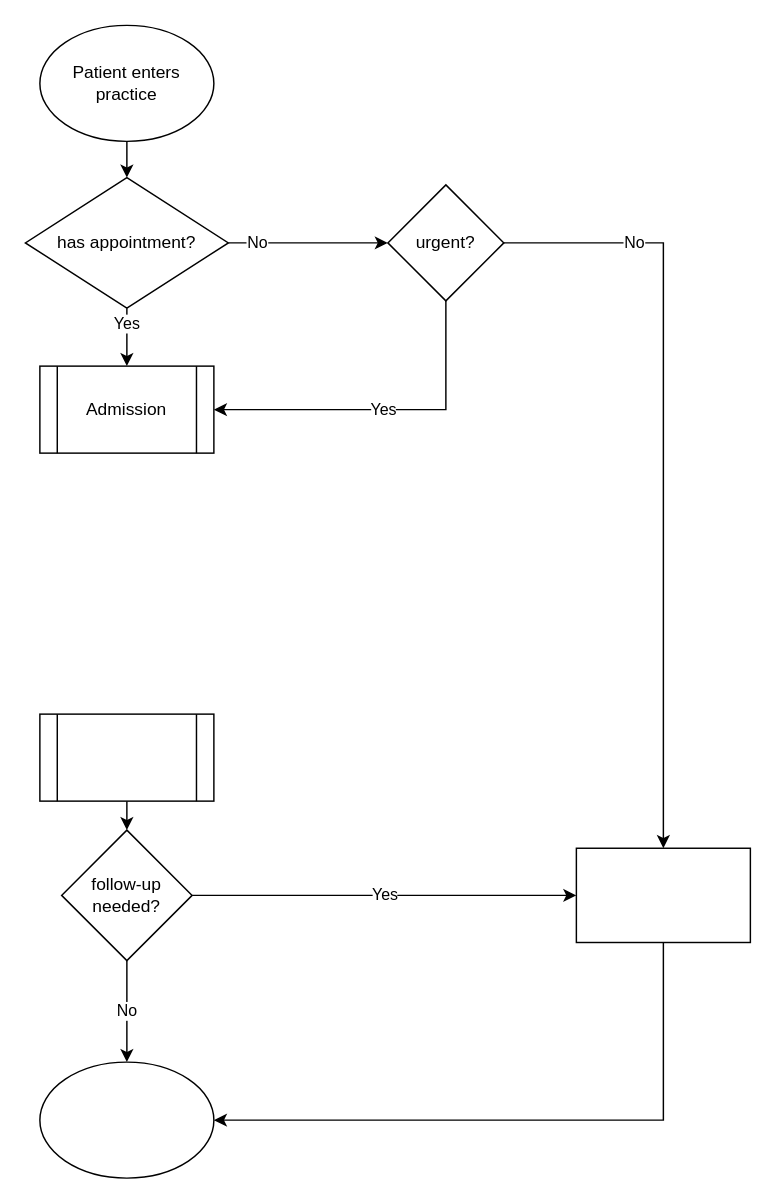
Some shapes in this 776 by 1204 pixel diagram are drawn without their labels. The shapes that lost their labels are listed below. From the top down, each one's centre as x and y in pixels, then its label:
point 126,757: Treatment
point 662,894: Make appointment
point 126,1119: Patient leaves practice
